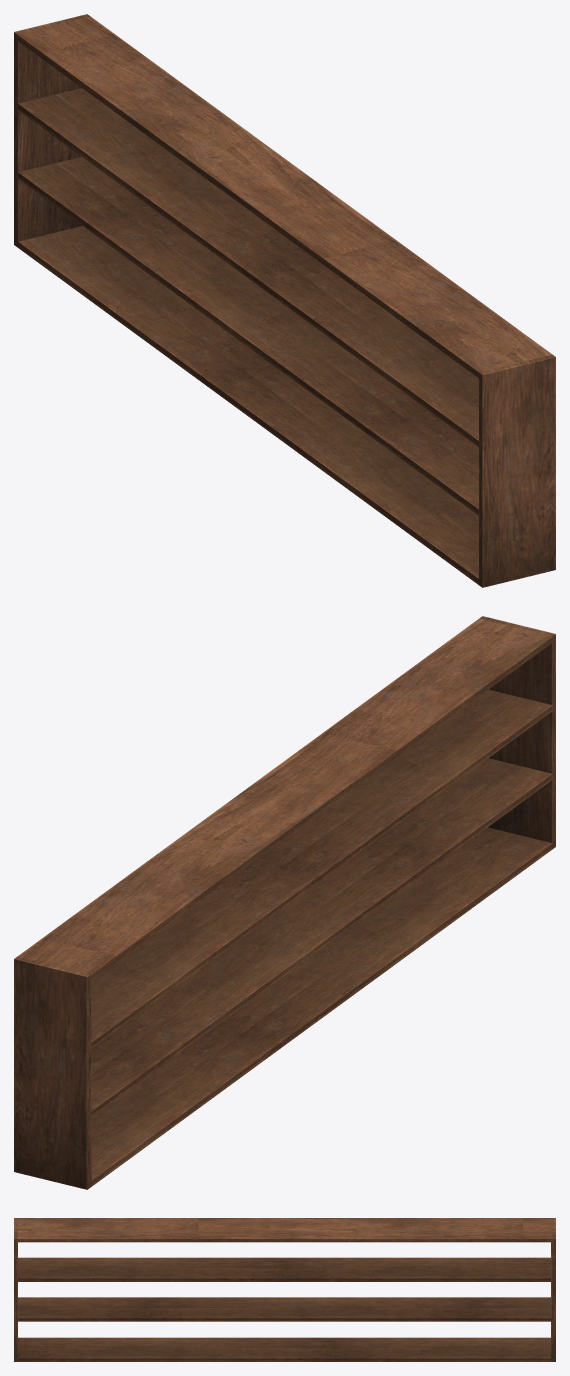
The model's file is Prop_JbJg01.glb.
3 views of the same model, one above another, from view 1: azimuth 30°, elevation 25°; view 2: azimuth 150°, elevation 25°; view 3: azimuth 270°, elevation 25° (orthographic). The views are drawn at different scales.
Visible parts, largest first — view 1: xiutz_jb_jg_01; view 2: xiutz_jb_jg_01; view 3: xiutz_jb_jg_01.
Boxes of the visible parts, x1,y1,x2,y2 form: xiutz_jb_jg_01: (14, 14, 555, 587); xiutz_jb_jg_01: (14, 616, 555, 1189); xiutz_jb_jg_01: (14, 1218, 555, 1361).
Size of the model in its own units: 0.6338 by 1.76 by 7.01.
1 material, 1 textured.
